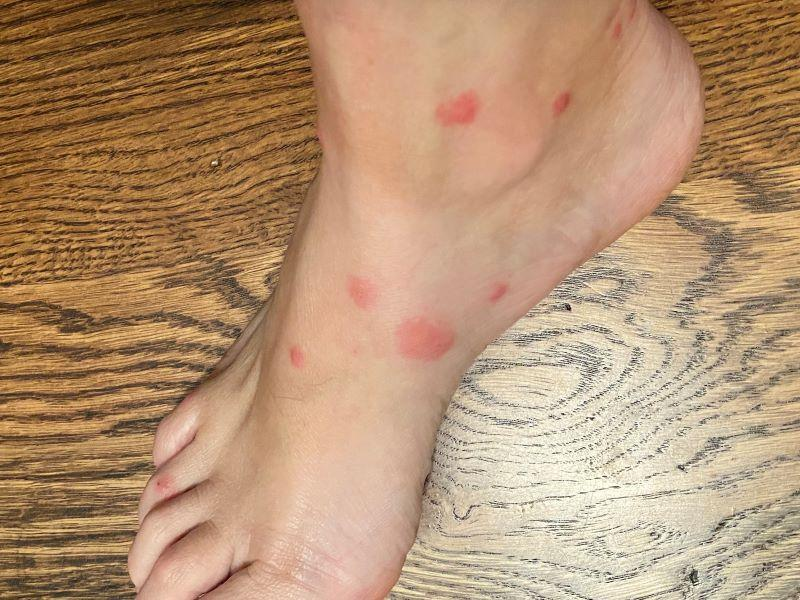Fire-Ant: (422, 72, 497, 156), (393, 305, 471, 385), (604, 0, 666, 75), (336, 255, 393, 335), (474, 260, 534, 333), (280, 319, 317, 400), (545, 75, 586, 147), (148, 471, 184, 501)
